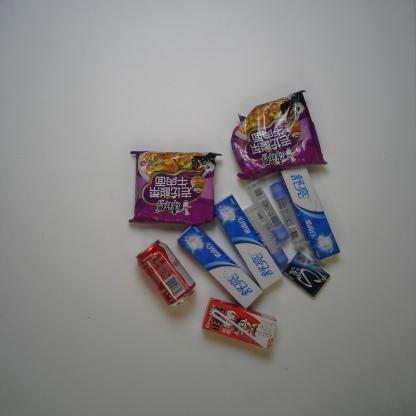Drink: (133, 240, 197, 310)
Gum: (283, 246, 332, 299)
Instant Noodles: (231, 86, 335, 178), (121, 146, 219, 232)
Milk: (198, 295, 280, 351)
Personal Hygiene: (173, 224, 271, 312), (210, 186, 282, 295), (277, 163, 348, 267)
Stationery: (242, 200, 292, 273), (265, 176, 309, 254), (247, 180, 290, 245)
